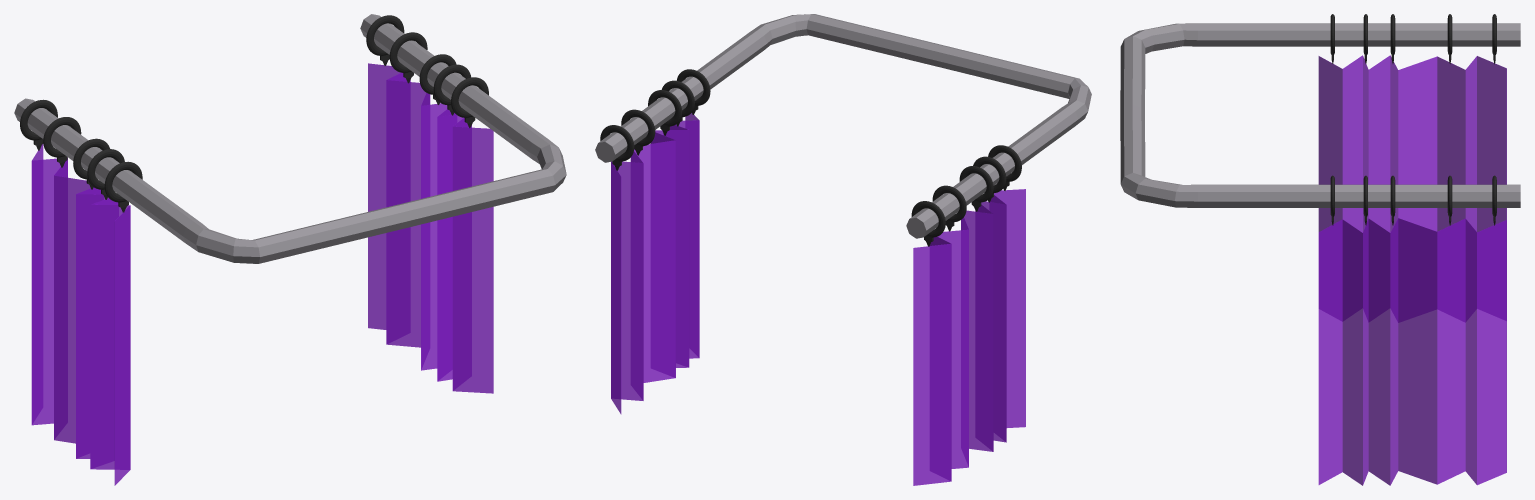
File: Room Curtain.fbx
The picture shows the model from 3 angles, left to right: view 1: azimuth 30°, elevation 25°; view 2: azimuth 150°, elevation 25°; view 3: azimuth 270°, elevation 25°; orthographic projection. The views are drawn at different scales.
Parts seen in each view (by area): view 1: Room Curtain; view 2: Room Curtain; view 3: Room Curtain.
Boxes of the visible parts, left/top/right/bottom form: Room Curtain: left=14, top=14, right=566, bottom=485; Room Curtain: left=595, top=14, right=1091, bottom=485; Room Curtain: left=1120, top=14, right=1520, bottom=485.
Size of the model in its own units: 475 by 372 by 449.
